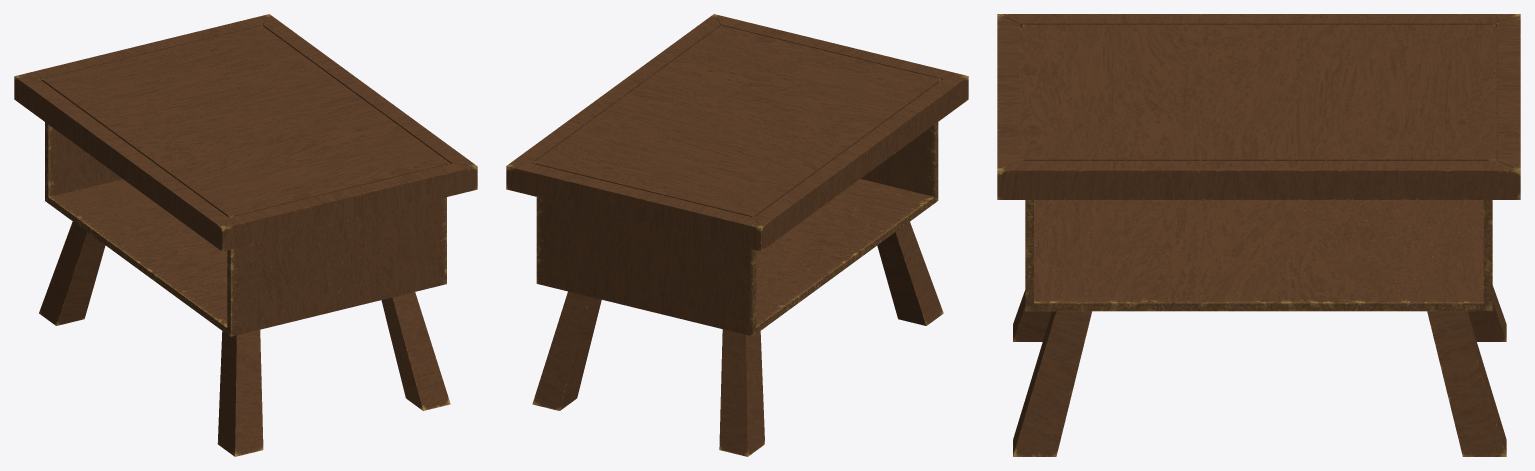
Rendered from SmolTable1.fbx.
3 renders of one model, left to right at view 1: azimuth 30°, elevation 25°; view 2: azimuth 150°, elevation 25°; view 3: azimuth 270°, elevation 25°, orthographic. The views are drawn at different scales.
Parts seen in each view (by area): view 1: Salas sa Tahanan.001; view 2: Salas sa Tahanan.001; view 3: Salas sa Tahanan.001.
Boxes of the visible parts, x1,y1,x2,y2 form: Salas sa Tahanan.001: [14, 14, 477, 456]; Salas sa Tahanan.001: [506, 14, 968, 456]; Salas sa Tahanan.001: [997, 14, 1520, 456].
Bounding box in the file's own units: 142 × 126 × 200.
1 material, 1 textured.
